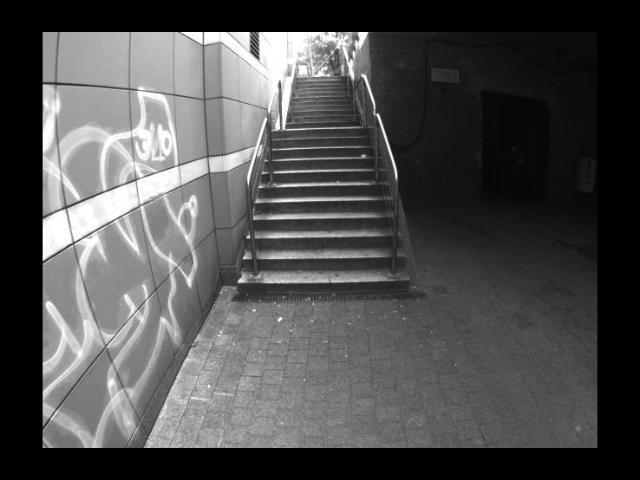Escaleras: (234, 122, 412, 300), (284, 72, 369, 127)
